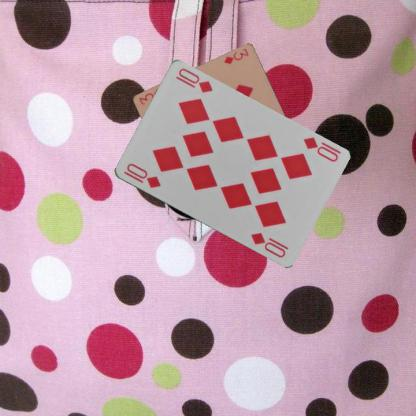10d: (120, 160, 162, 190), (300, 134, 339, 164)
3d: (221, 46, 250, 66)
